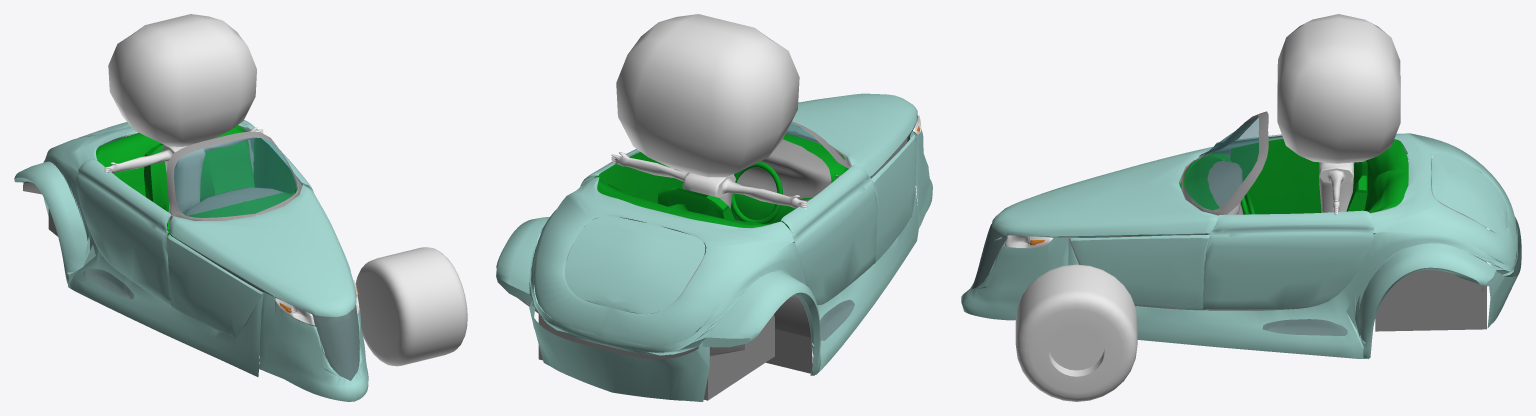
File: hebele.fbx
3 renders of one model, left to right at view 1: azimuth 30°, elevation 25°; view 2: azimuth 150°, elevation 25°; view 3: azimuth 270°, elevation 25°, orthographic. The views are drawn at different scales.
Visible parts, largest first — view 1: Human Form, ?????, Circle001, ????? ???6, ?????? ??7, ??????, ?????????2, ?????? ??6, ??? ??????, ????? ??0, ??????? ?6, ????? ???. (+7 smaller); view 2: Human Form, ?????? ??4, ?????? ??8, ????? ???6, ??????, ?????????1, ?????, ????? ??0, ???????? ?, ?????? ??6, ?????? ??1, ???? ????? (+9 smaller); view 3: Human Form, ????? ???4, Circle001, ?????, ??????, ?????? ??5, ?????? ??4, ???????? ?, ?????? ?10, ?????????2, ????? ??, ?????? ??7 (+10 smaller).
Boxes of the visible parts, x1=… form: Human Form: x1=104, y1=14, x2=262, y2=224; ?????: x1=170, y1=184, x2=356, y2=316; Circle001: x1=355, y1=247, x2=467, y2=366; ????? ???6: x1=76, y1=159, x2=171, y2=306; ?????? ??7: x1=169, y1=137, x2=297, y2=217; ??????: x1=43, y1=126, x2=354, y2=376; ?????????2: x1=259, y1=292, x2=368, y2=401; ?????? ??6: x1=167, y1=234, x2=262, y2=337; ??? ??????: x1=96, y1=125, x2=254, y2=229; ????? ??0: x1=14, y1=161, x2=87, y2=287; ??????? ?6: x1=313, y1=305, x2=359, y2=380; ????? ???.: x1=166, y1=131, x2=302, y2=220; Human Form: x1=611, y1=14, x2=806, y2=209; ?????? ??4: x1=534, y1=177, x2=794, y2=346; ?????? ??8: x1=564, y1=216, x2=705, y2=314; ????? ???6: x1=781, y1=163, x2=877, y2=304; ??????: x1=529, y1=138, x2=918, y2=374; ?????????1: x1=529, y1=300, x2=709, y2=401; ?????: x1=787, y1=93, x2=917, y2=177; ????? ??0: x1=698, y1=271, x2=820, y2=375; ???????? ?: x1=538, y1=254, x2=774, y2=400; ?????? ??6: x1=871, y1=134, x2=916, y2=261; ?????? ??1: x1=734, y1=139, x2=831, y2=201; ???? ?????: x1=518, y1=236, x2=813, y2=374; Human Form: x1=1277, y1=14, x2=1400, y2=214; ????? ???4: x1=1202, y1=210, x2=1374, y2=309; Circle001: x1=1015, y1=264, x2=1137, y2=401; ?????: x1=991, y1=146, x2=1218, y2=237; ??????: x1=1068, y1=139, x2=1517, y2=358; ?????? ??5: x1=1070, y1=234, x2=1209, y2=309; ?????? ??4: x1=1370, y1=133, x2=1517, y2=265; ???????? ?: x1=1375, y1=181, x2=1486, y2=331; ?????? ?10: x1=1230, y1=139, x2=1321, y2=214; ?????????2: x1=961, y1=235, x2=1068, y2=320; ????? ??: x1=1358, y1=243, x2=1497, y2=358; ?????? ??7: x1=1185, y1=117, x2=1258, y2=210.
Bounding box in the file's own units: 29.8 × 30.58 × 51.9.
